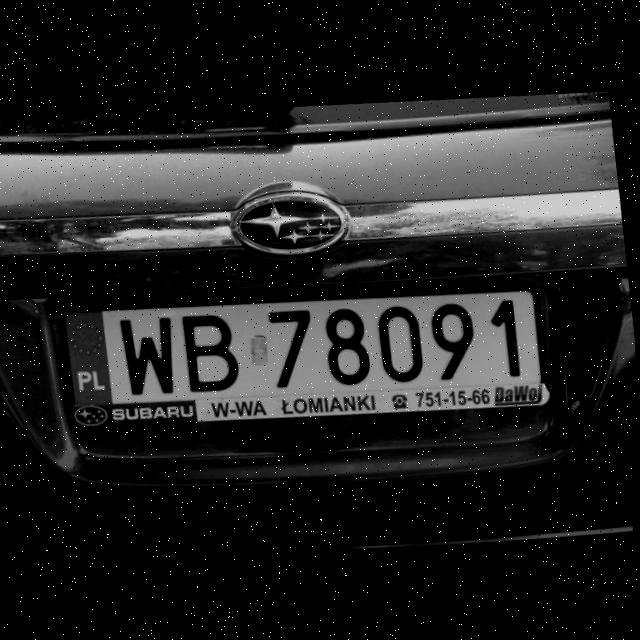license-plates: (64, 291, 539, 405)
